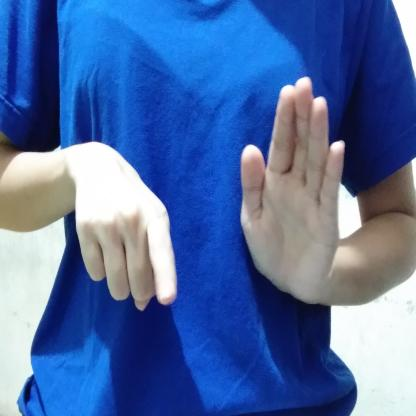stop: (61, 73, 347, 320)
